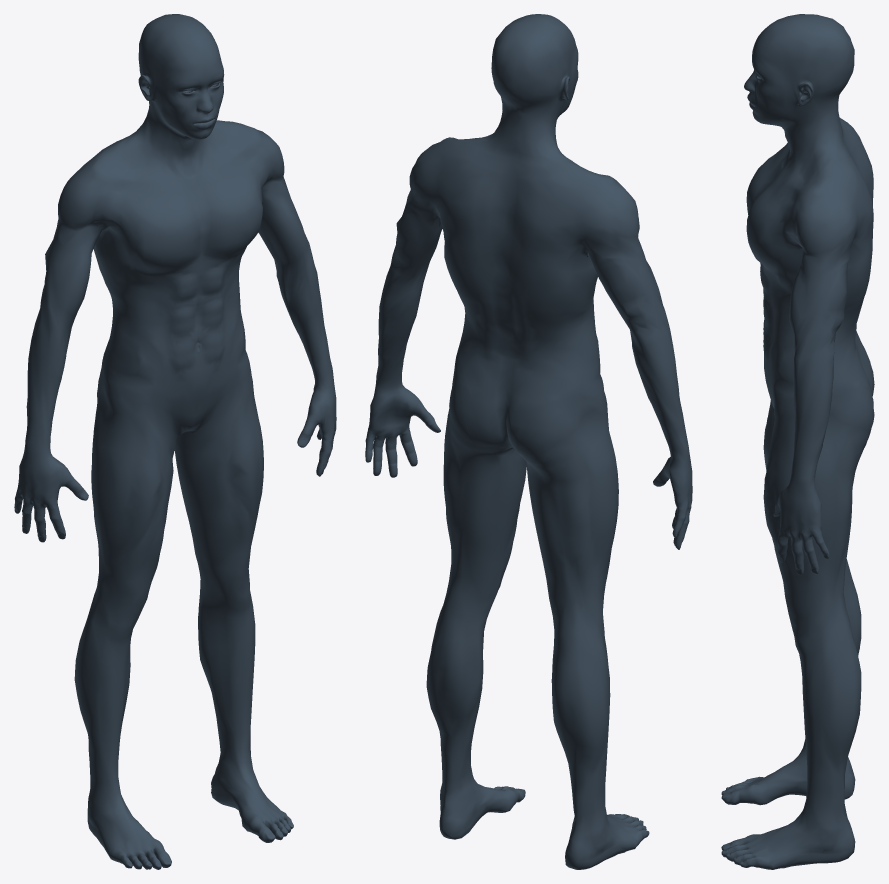
The model's file is twin-anatomy-sculpt-candidate.glb.
The picture shows the model from 3 angles, left to right: view 1: azimuth 30°, elevation 25°; view 2: azimuth 150°, elevation 25°; view 3: azimuth 270°, elevation 25°; orthographic projection.
Parts seen in each view (by area): view 1: twin-region:legs, twin-region:neutral, twin-region:arms, twin-region:chest, twin-region:core, twin-region:shoulders, twin-region:abs; view 2: twin-region:legs, twin-region:back, twin-region:neutral, twin-region:arms, twin-region:glutes, twin-region:shoulders, twin-region:core; view 3: twin-region:neutral, twin-region:legs, twin-region:arms, twin-region:shoulders, twin-region:back, twin-region:chest, twin-region:glutes, twin-region:core, twin-region:abs.
Boxes of the visible parts, x1,y1,x2,y2 form: twin-region:legs: (74, 363, 263, 796); twin-region:neutral: (14, 14, 336, 869); twin-region:arms: (25, 189, 332, 448); twin-region:chest: (103, 162, 262, 281); twin-region:core: (99, 246, 246, 397); twin-region:shoulders: (48, 122, 294, 266); twin-region:abs: (159, 262, 232, 383); twin-region:legs: (426, 392, 618, 824); twin-region:back: (431, 149, 594, 391); twin-region:neutral: (365, 14, 692, 869); twin-region:arms: (375, 208, 689, 461); twin-region:glutes: (448, 349, 592, 493); twin-region:shoulders: (402, 137, 649, 281); twin-region:core: (573, 275, 600, 386); twin-region:neutral: (721, 14, 855, 869); twin-region:legs: (763, 396, 861, 819); twin-region:arms: (789, 262, 848, 489); twin-region:shoulders: (782, 143, 861, 298); twin-region:back: (833, 127, 873, 376); twin-region:chest: (746, 143, 802, 278); twin-region:glutes: (830, 340, 874, 477); twin-region:core: (768, 269, 797, 392); twin-region:abs: (760, 263, 773, 373).
Size of the model in its own units: 0.7525 by 1.85 by 0.3163.
